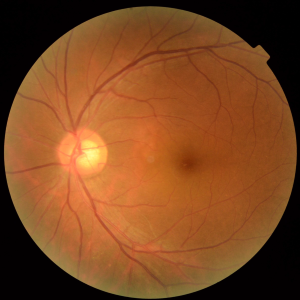glaucoma: (28, 104, 225, 214)
